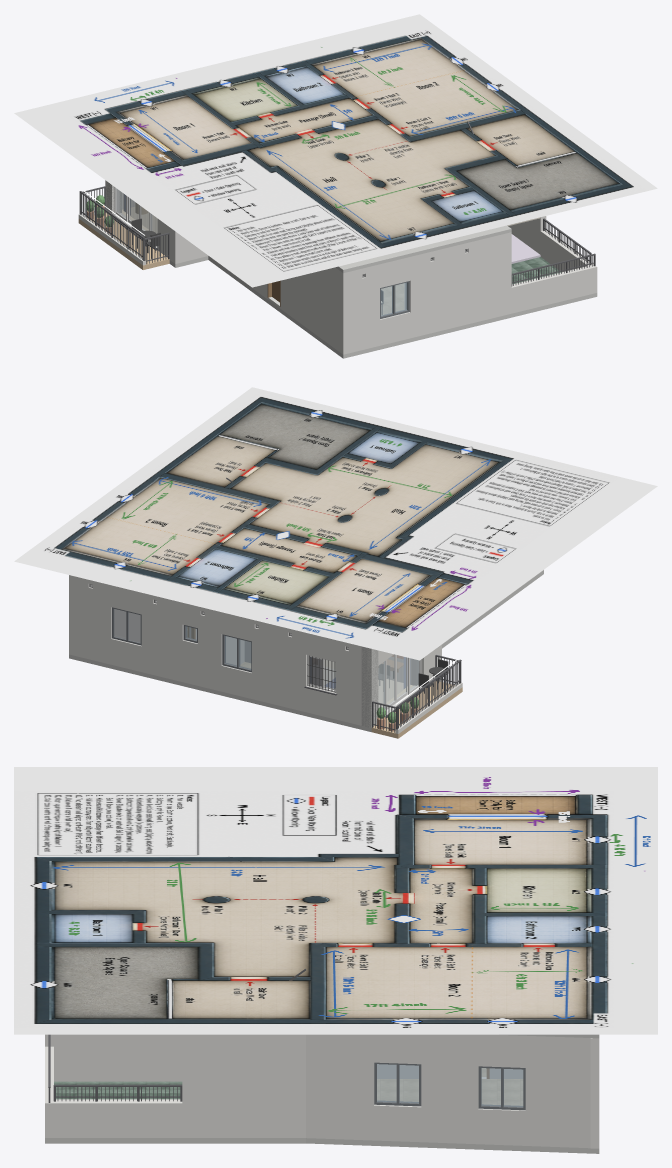
Rendered from MyFlat_V1_3_Hall_Budget.glb.
3 views of the same model, one above another, from view 1: azimuth 30°, elevation 25°; view 2: azimuth 150°, elevation 25°; view 3: azimuth 270°, elevation 25° (orthographic). The views are drawn at different scales.
Parts seen in each view (by area): view 1: PLAN_REFERENCE_OVERLAY, WALL_EXT_S_HALL, WALL_EXT_W_HALL, PARAPET_OPENSQ_S, SLAB_FLOOR_STRUCTURAL, BALCONY_RAILING_W, SLAB_ROOF, BALCONY_FLOOR, PARAPET_OPENSQ_E, WALL_EXT_W_R1_BALCONY, RAILING_OPENSQ_S, WALL_EXT_E_STAIR (+5 smaller); view 2: PLAN_REFERENCE_OVERLAY, WALL_EXT_N_R2, WALL_EXT_N_R1, WALL_EXT_N_KIT, WALL_EXT_N_B2, SLAB_FLOOR_STRUCTURAL, BALCONY_RAILING_W, PILLAR_R1_NW, BALCONY_FLOOR, WALL_EXT_W_R1_BALCONY, R1_OPD_BALCONY_CURTAIN_SHEER, WINDOW_W4_GLASS (+1 smaller); view 3: PLAN_REFERENCE_OVERLAY, WALL_EXT_E_R2_TAPERED, WALL_EXT_E_STAIR, WALL_INT_OPENSQ_W, PARAPET_OPENSQ_E, SLAB_FLOOR_STRUCTURAL, HB_OPENSQ_FINISH, HB_FLOOR_R2_FINISH, WINDOW_W5_GLASS, WINDOW_W6_GLASS, RAILING_OPENSQ_E, WALL_EXT_N_R2 (+4 smaller).
Part boxes in pixels (<box>): PLAN_REFERENCE_OVERLAY: <box>14,14,657,287</box>; WALL_EXT_S_HALL: <box>340,232,511,354</box>; WALL_EXT_W_HALL: <box>209,256,348,354</box>; PARAPET_OPENSQ_S: <box>511,264,597,313</box>; SLAB_FLOOR_STRUCTURAL: <box>169,256,597,358</box>; BALCONY_RAILING_W: <box>79,191,144,260</box>; SLAB_ROOF: <box>335,225,511,273</box>; BALCONY_FLOOR: <box>78,213,169,269</box>; PARAPET_OPENSQ_E: <box>540,230,593,272</box>; WALL_EXT_W_R1_BALCONY: <box>107,184,184,263</box>; RAILING_OPENSQ_S: <box>511,253,595,286</box>; WALL_EXT_E_STAIR: <box>508,216,546,254</box>; PLAN_REFERENCE_OVERLAY: <box>14,387,657,660</box>; WALL_EXT_N_R2: <box>69,575,171,679</box>; WALL_EXT_N_R1: <box>265,623,372,727</box>; WALL_EXT_N_KIT: <box>208,609,264,701</box>; WALL_EXT_N_B2: <box>172,600,208,688</box>; SLAB_FLOOR_STRUCTURAL: <box>69,570,543,731</box>; BALCONY_RAILING_W: <box>396,659,461,729</box>; PILLAR_R1_NW: <box>361,646,378,727</box>; BALCONY_FLOOR: <box>371,681,462,738</box>; WALL_EXT_W_R1_BALCONY: <box>362,647,438,727</box>; R1_OPD_BALCONY_CURTAIN_SHEER: <box>378,655,410,707</box>; WINDOW_W4_GLASS: <box>114,609,140,642</box>; PLAN_REFERENCE_OVERLAY: <box>14,767,657,1034</box>; WALL_EXT_E_R2_TAPERED: <box>306,1034,590,1148</box>; WALL_EXT_E_STAIR: <box>182,1034,305,1137</box>; WALL_INT_OPENSQ_W: <box>54,1034,182,1081</box>; PARAPET_OPENSQ_E: <box>54,1099,182,1137</box>; SLAB_FLOOR_STRUCTURAL: <box>45,1138,599,1153</box>; HB_OPENSQ_FINISH: <box>54,1081,182,1099</box>; HB_FLOOR_R2_FINISH: <box>377,1079,523,1105</box>; WINDOW_W5_GLASS: <box>481,1068,523,1106</box>; WINDOW_W6_GLASS: <box>377,1064,418,1103</box>; RAILING_OPENSQ_E: <box>53,1084,182,1101</box>; WALL_EXT_N_R2: <box>590,1038,599,1148</box>.
Size of what is drawn, in the model's own units: 16.28 by 4.33 by 16.55.
Materials: 89 (4 with a texture image).
